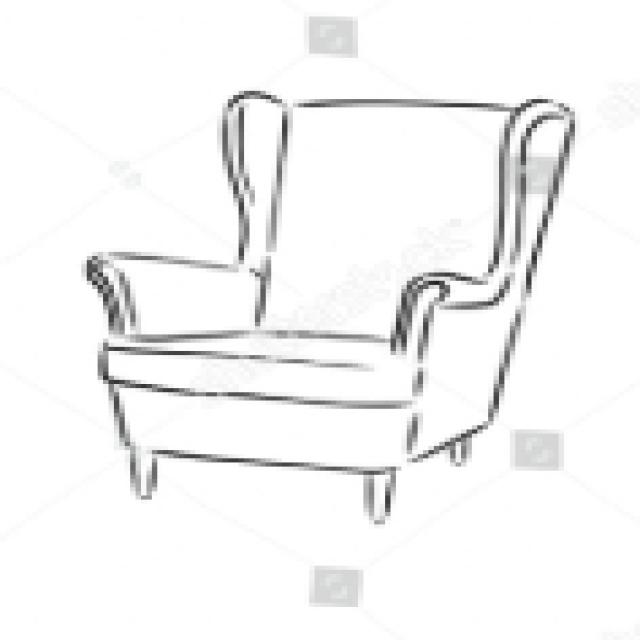Backrest: (258, 99, 518, 343)
Leg_Structure: (124, 426, 477, 528)
Seat: (97, 331, 425, 407)
Wing_Flange: (490, 101, 573, 278), (220, 88, 291, 283)
sofa_armrest: (388, 272, 531, 464), (85, 249, 261, 336)
